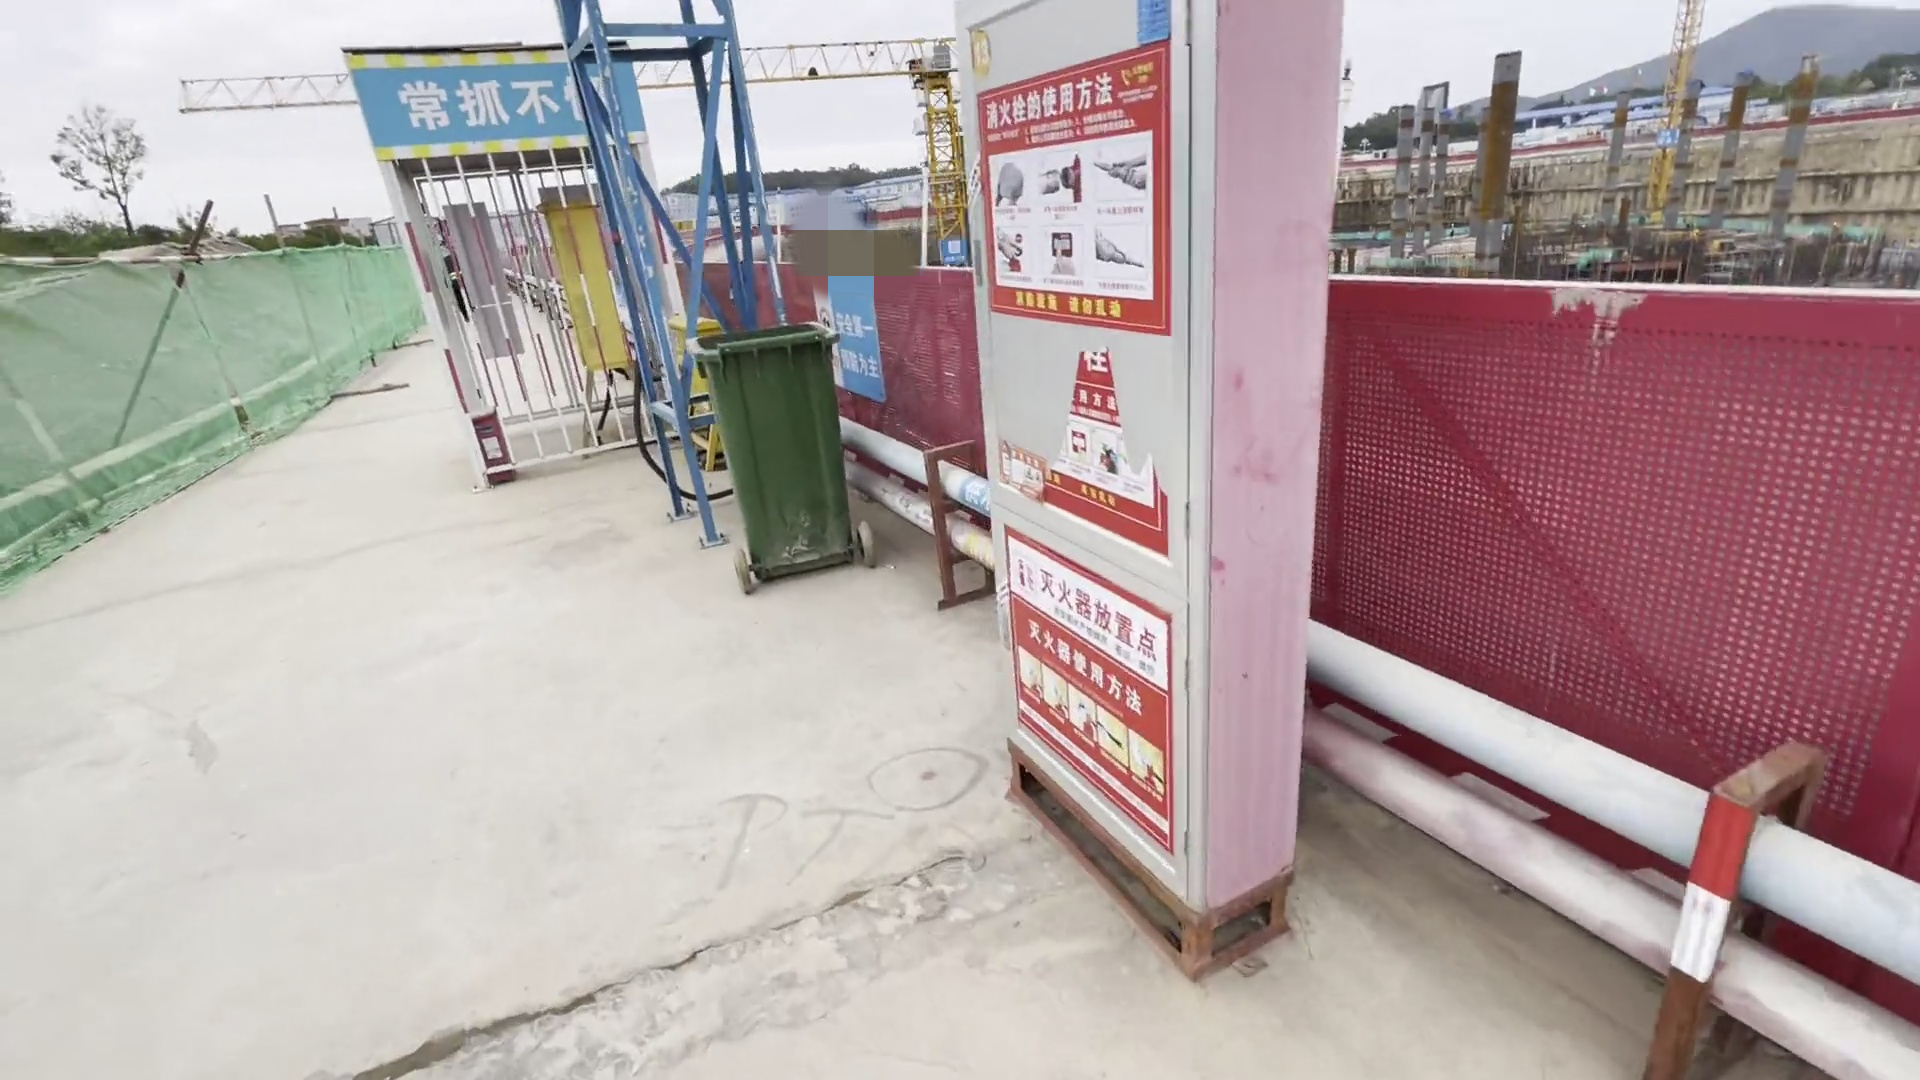ebox: (549, 196, 630, 388)
fence: (654, 214, 1879, 849)
slogan: (972, 55, 1204, 855), (353, 44, 647, 158)
